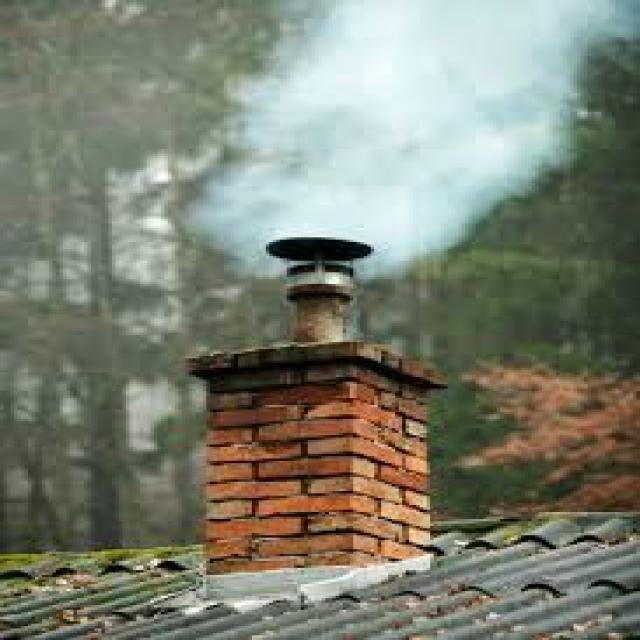Smoke: (175, 0, 640, 286)
